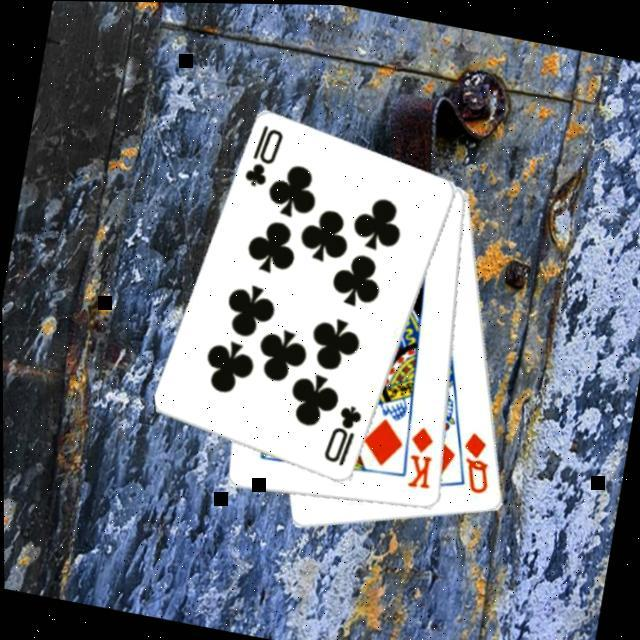10C: (316, 394, 365, 470), (238, 116, 286, 192)
KD: (398, 418, 440, 490)
QD: (450, 424, 498, 496)
